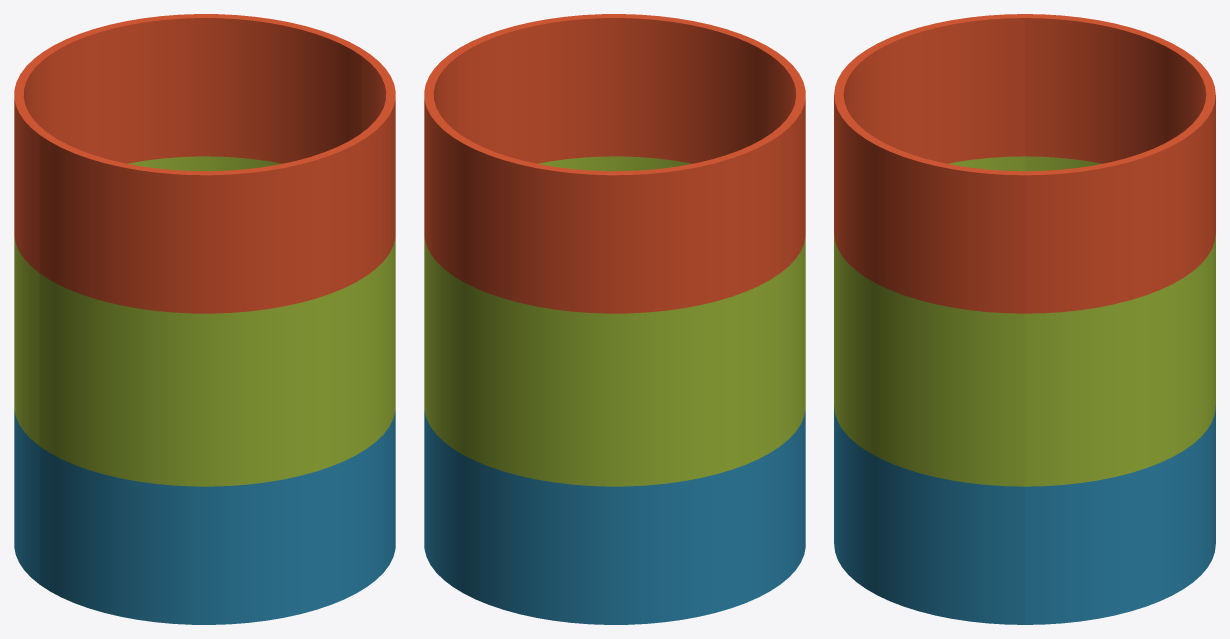
The model's file is degasser_tower_pressure.glb.
3 renders of one model, left to right at view 1: azimuth 30°, elevation 25°; view 2: azimuth 150°, elevation 25°; view 3: azimuth 270°, elevation 25°, orthographic.
Parts seen in each view (by area): view 1: pressure__front, pressure__back; view 2: pressure__back, pressure__front; view 3: pressure__back, pressure__front.
Part boxes in pixels (<box>): pressure__front: <box>39,54,395,624</box>; pressure__back: <box>14,14,369,584</box>; pressure__back: <box>424,54,780,624</box>; pressure__front: <box>450,14,805,584</box>; pressure__back: <box>1025,14,1215,624</box>; pressure__front: <box>834,14,1024,624</box>.
Size of the model in its own units: 1 by 1.3 by 1.
